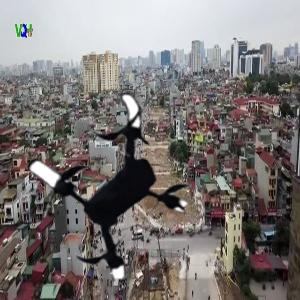drone: (11, 88, 203, 280)
